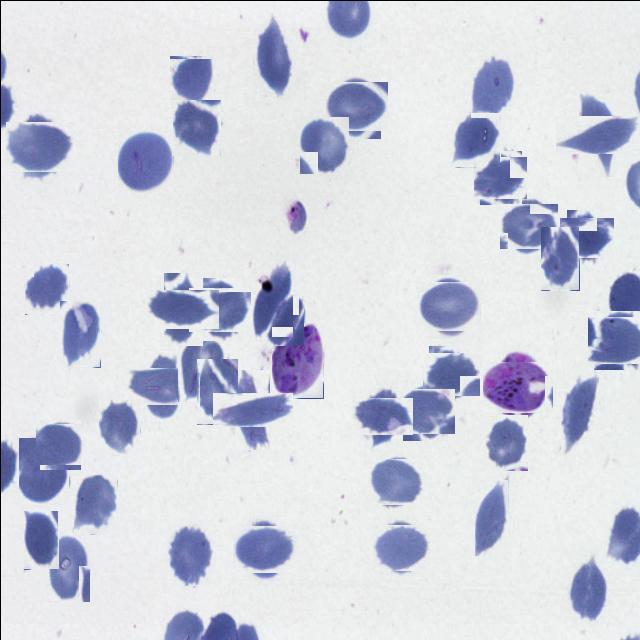difficult: (486, 357, 547, 417)
red blood cell: (566, 104, 628, 164), (9, 116, 68, 176), (117, 129, 172, 192), (326, 76, 384, 134), (222, 380, 280, 438), (18, 437, 68, 504), (419, 277, 476, 334), (236, 520, 292, 576), (132, 358, 188, 414), (154, 280, 210, 336), (177, 334, 223, 401), (560, 372, 598, 453), (254, 20, 291, 100), (470, 52, 516, 116), (192, 282, 246, 336), (251, 265, 292, 336), (299, 116, 349, 174), (48, 533, 90, 602), (196, 358, 238, 424), (59, 300, 100, 367), (502, 200, 554, 252), (375, 521, 427, 573), (399, 385, 451, 437), (167, 525, 212, 585), (452, 111, 500, 167), (172, 99, 220, 155), (73, 474, 117, 534), (474, 479, 508, 556), (591, 313, 640, 366), (568, 558, 607, 623), (370, 456, 420, 506), (425, 348, 475, 398), (356, 390, 406, 440), (540, 226, 579, 290), (483, 414, 527, 470), (98, 399, 140, 454), (476, 153, 524, 201), (24, 263, 69, 314), (562, 213, 610, 260), (169, 55, 214, 103), (22, 510, 58, 569), (36, 421, 82, 466), (266, 295, 304, 346)
trophozoite: (271, 326, 323, 398)
